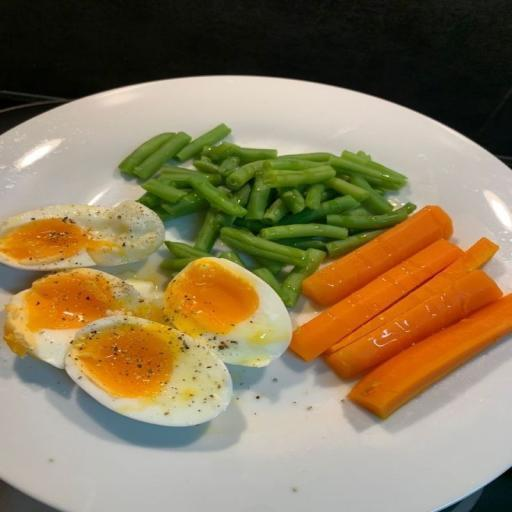buncis_rebus: (111, 102, 413, 222)
